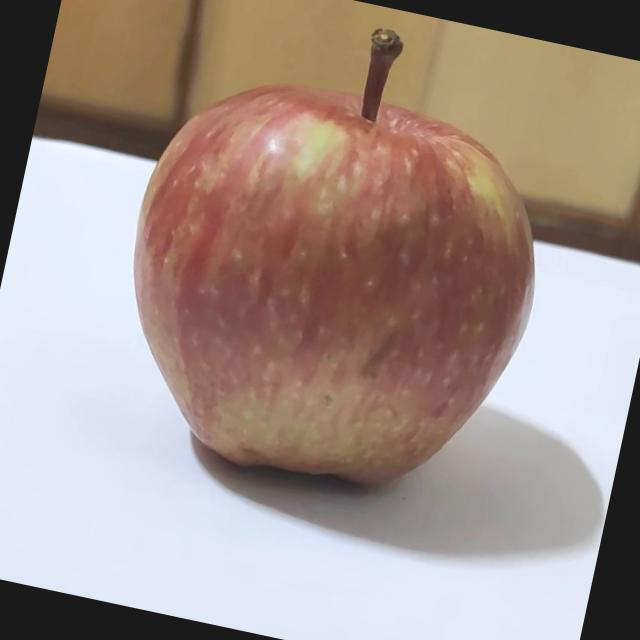apple: (82, 0, 581, 534)
